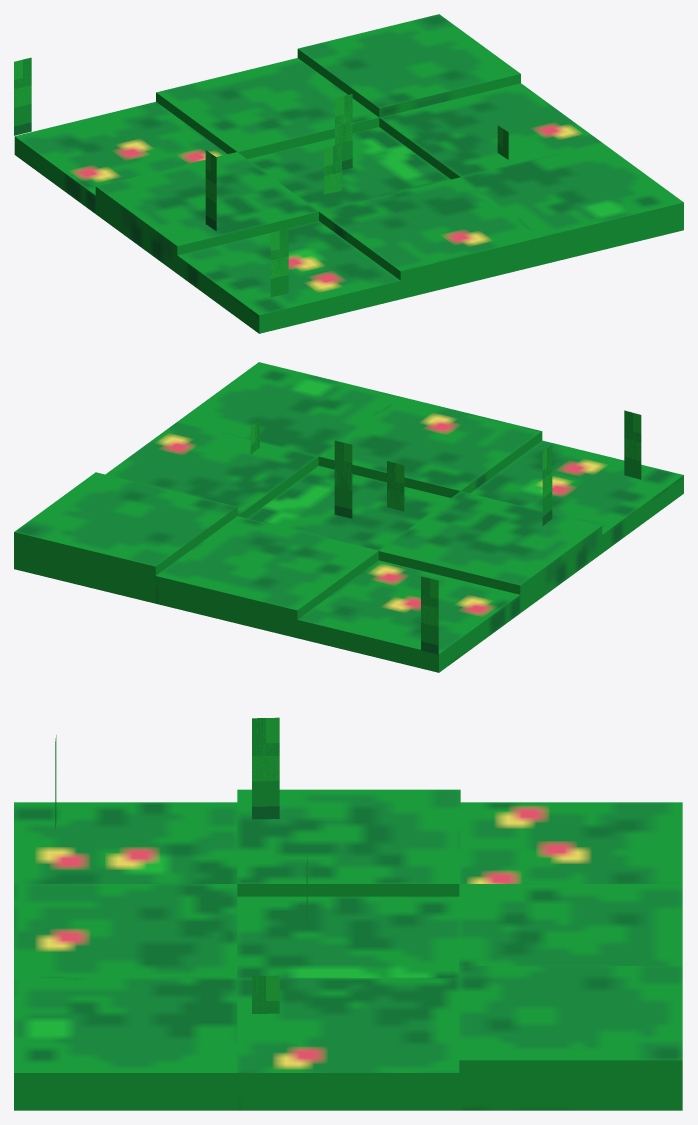
The model's file is ground.fbx.
The picture shows the model from 3 angles, top to bottom: view 1: azimuth 30°, elevation 25°; view 2: azimuth 150°, elevation 25°; view 3: azimuth 270°, elevation 25°; orthographic projection. The views are drawn at different scales.
Visible parts, largest first — view 1: block_7, block_8, block_6, block_4, block_3, block_1, block_2, block_5, block, grass_5, grass_3, grass (+2 smaller); view 2: block_3, block_1, block_4, block_5, block_7, block_8, block_6, block_2, block, grass, grass_5, grass_3 (+2 smaller); view 3: block_3, block_8, block_2, block_4, block_7, block, block_1, block_6, block_5, grass_2, grass_1.
Boxes of the visible parts, x1=… form: block_7: x1=319, y1=177, x2=542, y2=299; block_8: x1=461, y1=142, x2=683, y2=264; block_6: x1=177, y1=221, x2=400, y2=333; block_4: x1=95, y1=152, x2=318, y2=273; block_3: x1=297, y1=14, x2=520, y2=117; block_1: x1=156, y1=58, x2=379, y2=158; block_2: x1=379, y1=83, x2=601, y2=179; block_5: x1=14, y1=102, x2=227, y2=213; block: x1=247, y1=127, x2=450, y2=211; grass_5: x1=14, y1=57, x2=31, y2=135; grass_3: x1=270, y1=228, x2=288, y2=297; grass: x1=335, y1=94, x2=352, y2=170; block_3: x1=14, y1=472, x2=237, y2=603; block_1: x1=155, y1=516, x2=378, y2=637; block_4: x1=378, y1=491, x2=602, y2=612; block_5: x1=297, y1=560, x2=520, y2=672; block_7: x1=318, y1=396, x2=542, y2=497; block_8: x1=177, y1=362, x2=399, y2=456; block_6: x1=470, y1=440, x2=683, y2=552; block_2: x1=105, y1=422, x2=318, y2=518; block: x1=247, y1=466, x2=450, y2=550; grass: x1=334, y1=440, x2=352, y2=518; grass_5: x1=421, y1=576, x2=438, y2=654; grass_3: x1=624, y1=410, x2=641, y2=479; block_3: x1=459, y1=966, x2=682, y2=1110; block_8: x1=14, y1=978, x2=237, y2=1110; block_2: x1=237, y1=978, x2=460, y2=1110; block_4: x1=237, y1=789, x2=460, y2=896; block_7: x1=14, y1=884, x2=237, y2=978; block: x1=237, y1=896, x2=459, y2=978; block_1: x1=459, y1=884, x2=682, y2=965; block_6: x1=14, y1=802, x2=237, y2=883; block_5: x1=460, y1=802, x2=682, y2=883; grass_2: x1=252, y1=717, x2=279, y2=819; grass_1: x1=252, y1=975, x2=279, y2=1013.
Size of the model in its own units: 300 by 81.25 by 300.
Materials: 2 (2 with a texture image).
